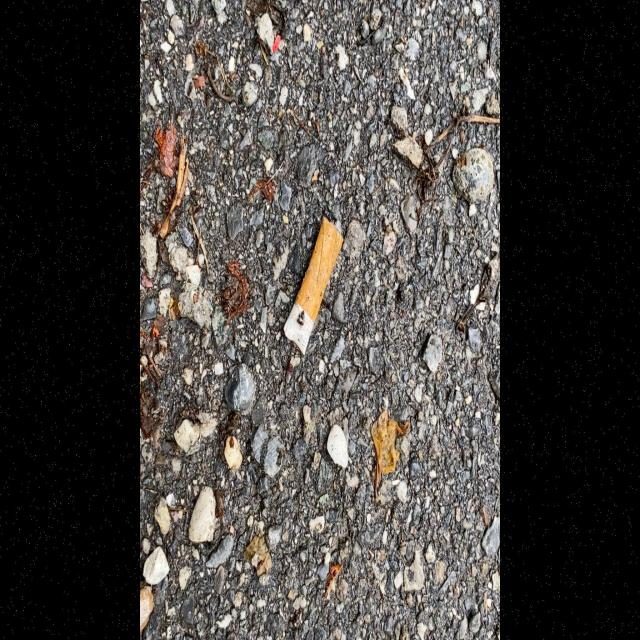other waste: (283, 214, 344, 355)
